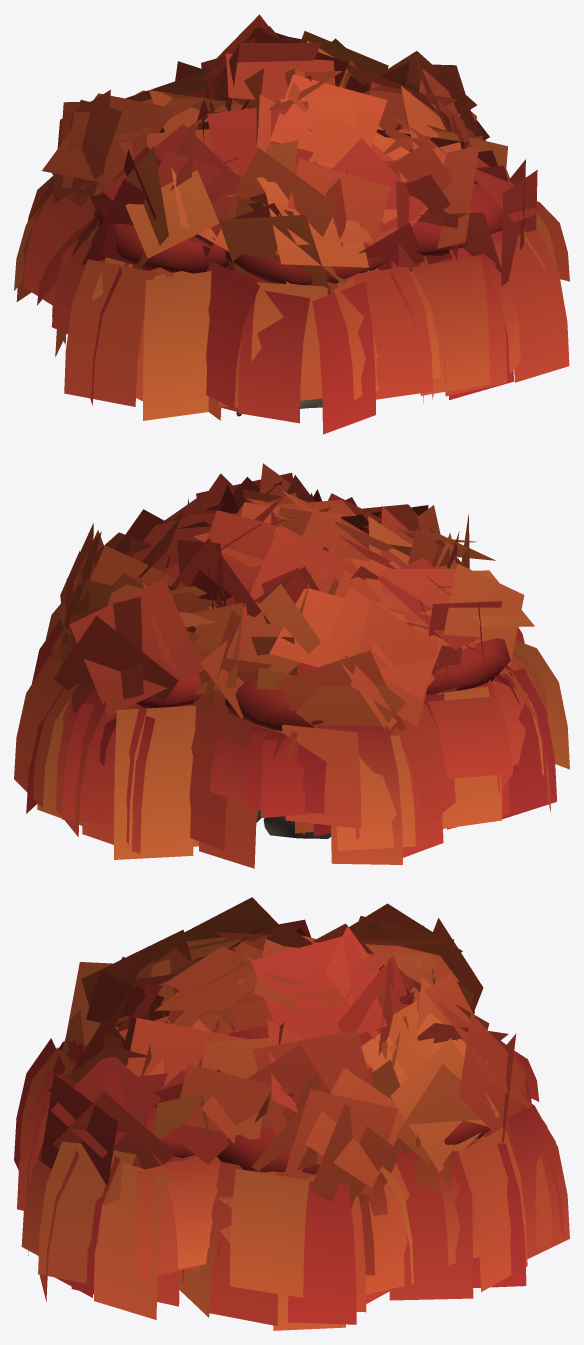
Rendered from tree-maple-weep-v0.glb.
The picture shows the model from 3 angles, top to bottom: view 1: azimuth 30°, elevation 25°; view 2: azimuth 150°, elevation 25°; view 3: azimuth 270°, elevation 25°; orthographic projection. The views are drawn at different scales.
Parts seen in each view (by area): view 1: cards_maple, foliage; view 2: cards_maple, foliage, bark; view 3: cards_maple, foliage.
Part boxes in pixels (box(x1,y1,x2,y2)): cards_maple: box(14, 14, 569, 434); foliage: box(98, 127, 502, 285); cards_maple: box(14, 463, 569, 868); foliage: box(67, 638, 510, 730); bark: box(256, 810, 330, 838); cards_maple: box(14, 897, 569, 1330); foliage: box(70, 1025, 490, 1174).
Bounding box in the file's own units: 4.58 × 3.07 × 4.38.
